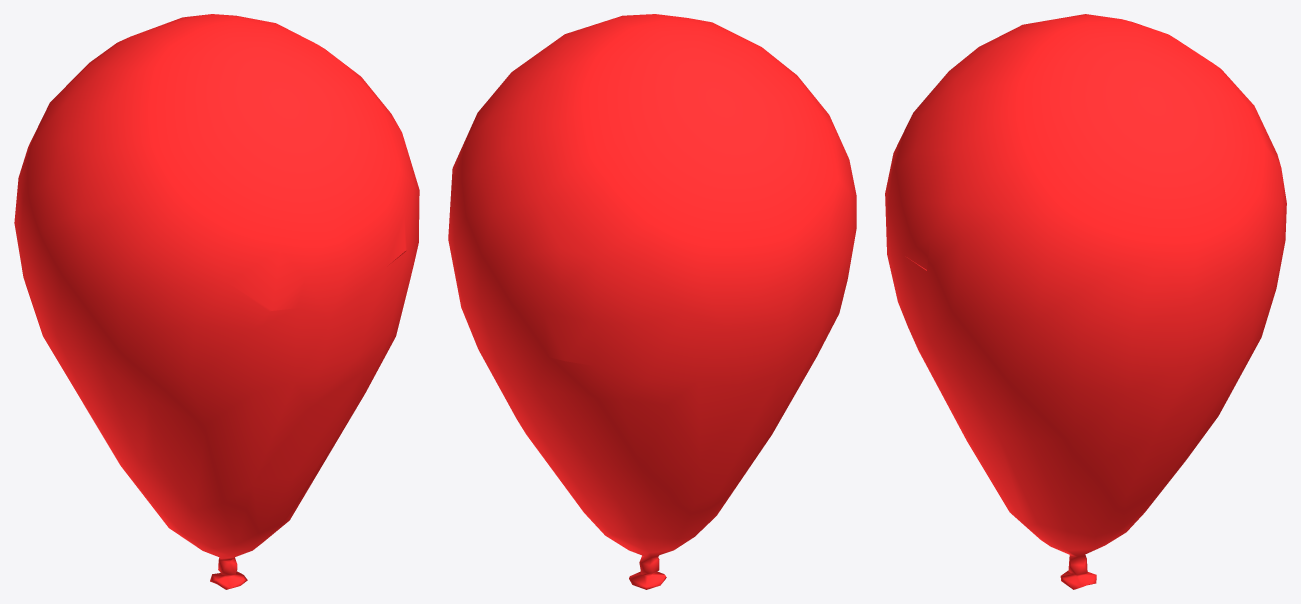
Rendered from Ballon.fbx.
The picture shows the model from 3 angles, left to right: view 1: azimuth 30°, elevation 25°; view 2: azimuth 150°, elevation 25°; view 3: azimuth 270°, elevation 25°; orthographic projection.
Visible parts, largest first — view 1: Sphere; view 2: Sphere; view 3: Sphere.
Part boxes in pixels (x1=…): Sphere: x1=14, y1=14, x2=419, y2=589; Sphere: x1=448, y1=14, x2=856, y2=589; Sphere: x1=885, y1=14, x2=1286, y2=589.
Bounding box in the file's own units: 28.86 × 43.56 × 28.84.
